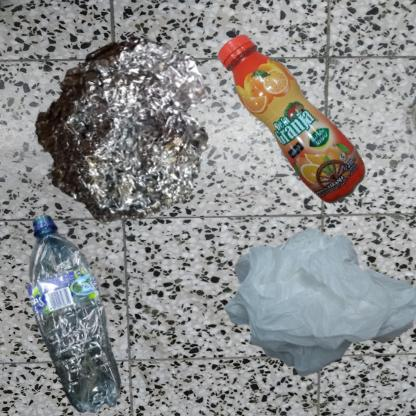aluminio: (10, 10, 251, 265)
bolsa: (213, 213, 416, 409)
botella: (213, 10, 414, 284), (10, 213, 148, 416)
